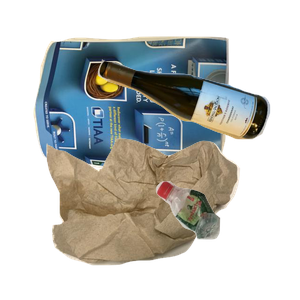glass: (95, 57, 300, 189)
paper: (31, 34, 252, 205)
plastic: (153, 178, 300, 300)
trash: (44, 136, 277, 300)
